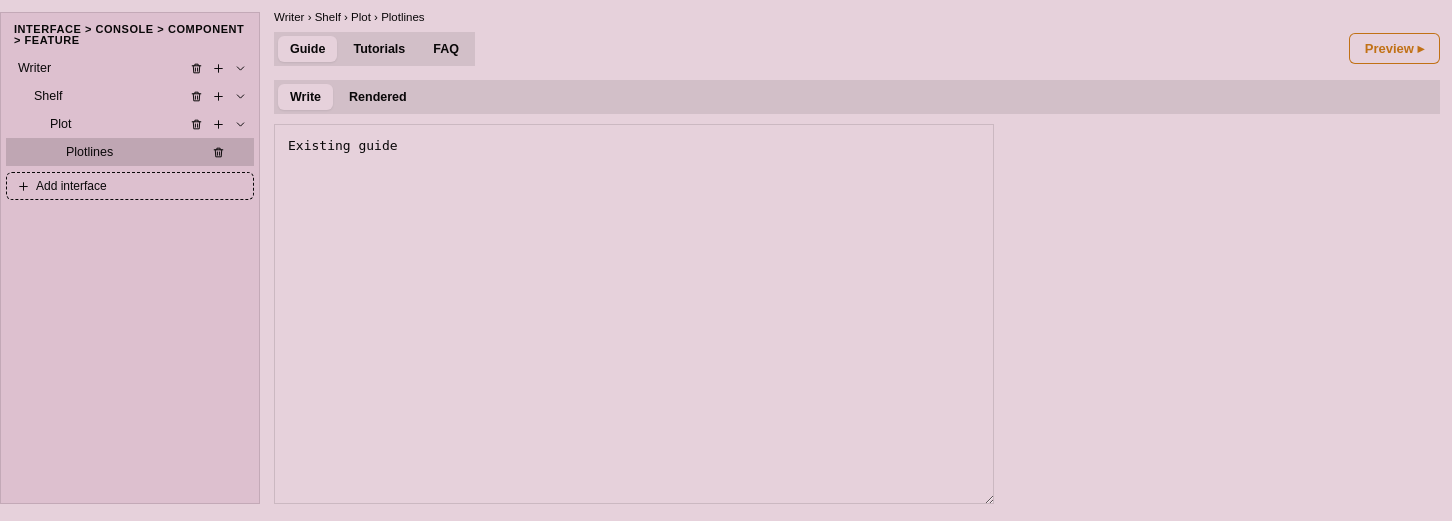
Test: ArticleBuilder › switches between Guide/Tutorials/FAQ tabs
Expected: the text box showing "Existing guide" is shown, [274,124,994,504]
Click the button "Tutorials" at coordinates (379, 48), box [341,36,417,62]
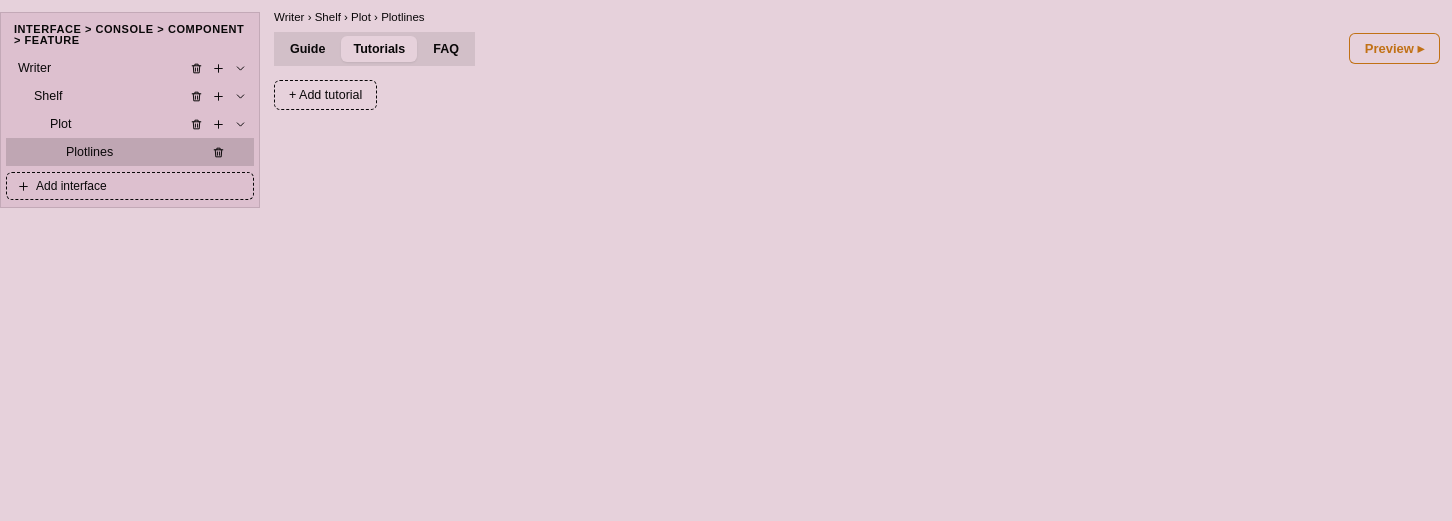
Now the button "+ Add tutorial" is shown, box [274,80,377,110]
Click the button "FAQ" at coordinates (446, 48), box [421,36,471,62]
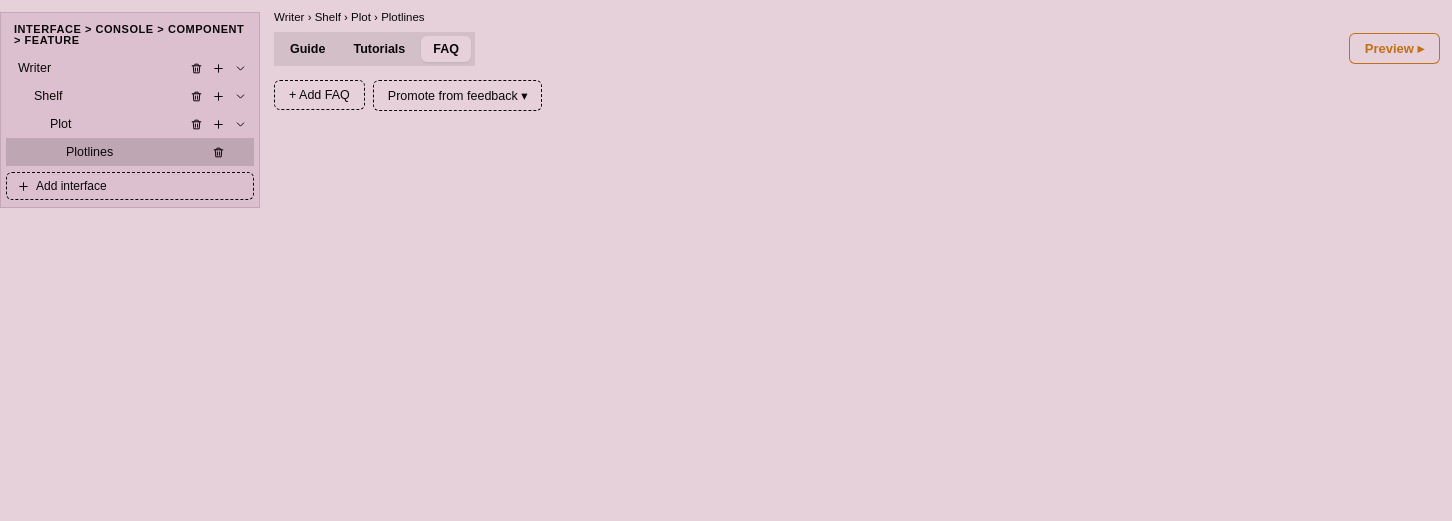
Now the button "+ Add FAQ" is shown, box [274,80,365,110]
